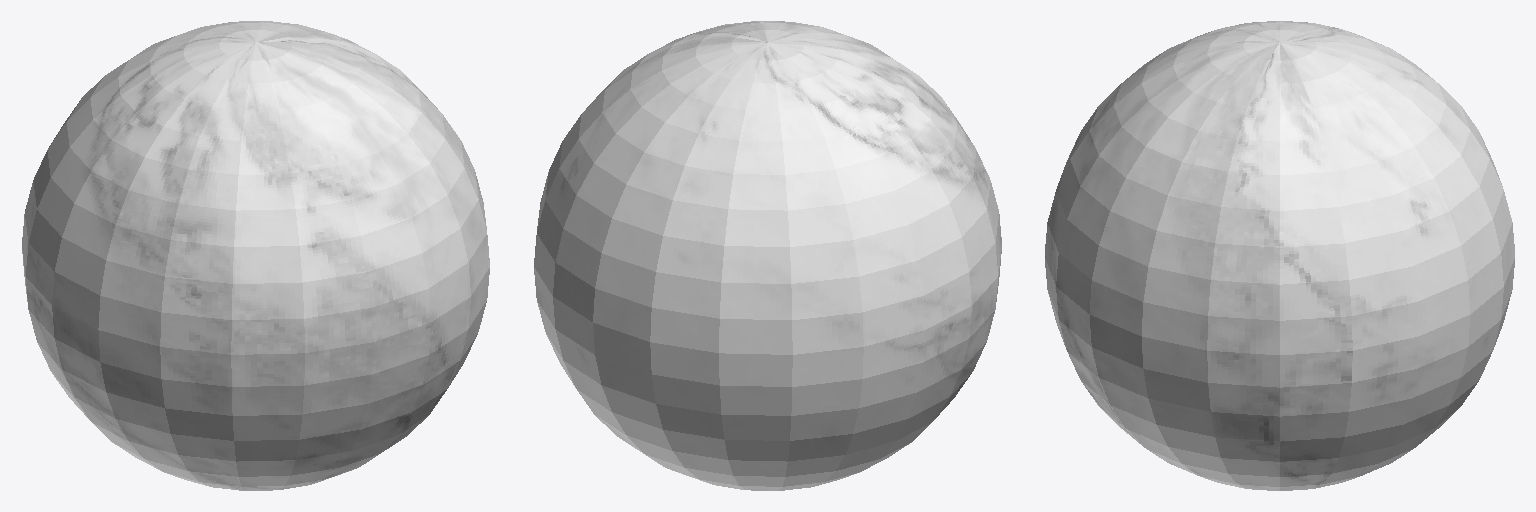
The picture shows the model from 3 angles: view 1: azimuth 30°, elevation 25°; view 2: azimuth 150°, elevation 25°; view 3: azimuth 270°, elevation 25°; orthographic projection.
Parts seen in each view (by area): view 1: pSphere1; view 2: pSphere1; view 3: pSphere1.
Boxes of the visible parts, x1,y1,x2,y2 form: pSphere1: [22, 21, 489, 490]; pSphere1: [534, 21, 1001, 490]; pSphere1: [1045, 21, 1514, 490].
Size of the model in its own units: 0.0403 by 0.0403 by 0.0403.
1 materials, 1 textured.